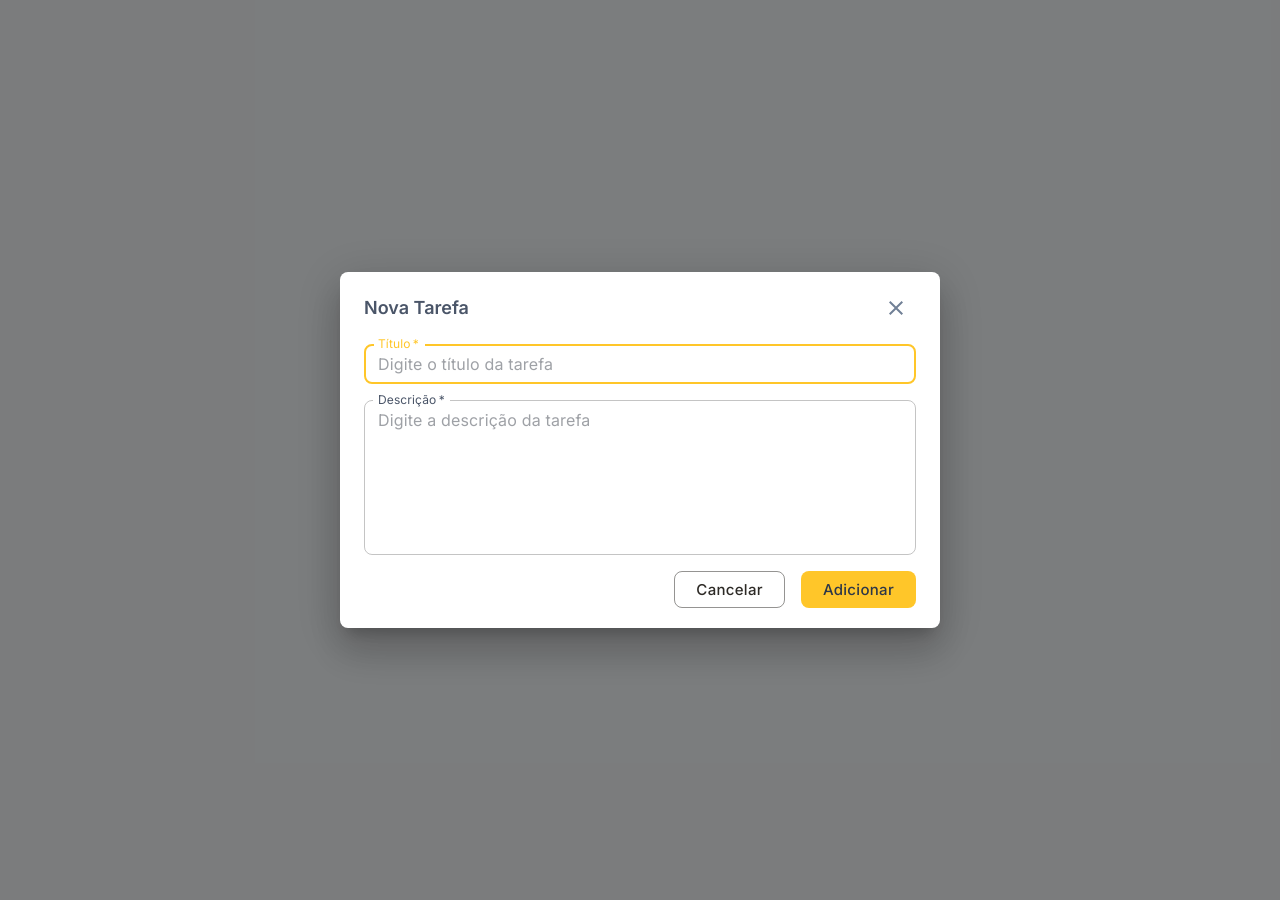
Scenario: TaskNew - Integration Tests › Edge Cases › should display error message when task creation fails
Type "Nova tarefa de teste" into the field labelled "Título *" at [640, 364], box 364,344 -> 916,384
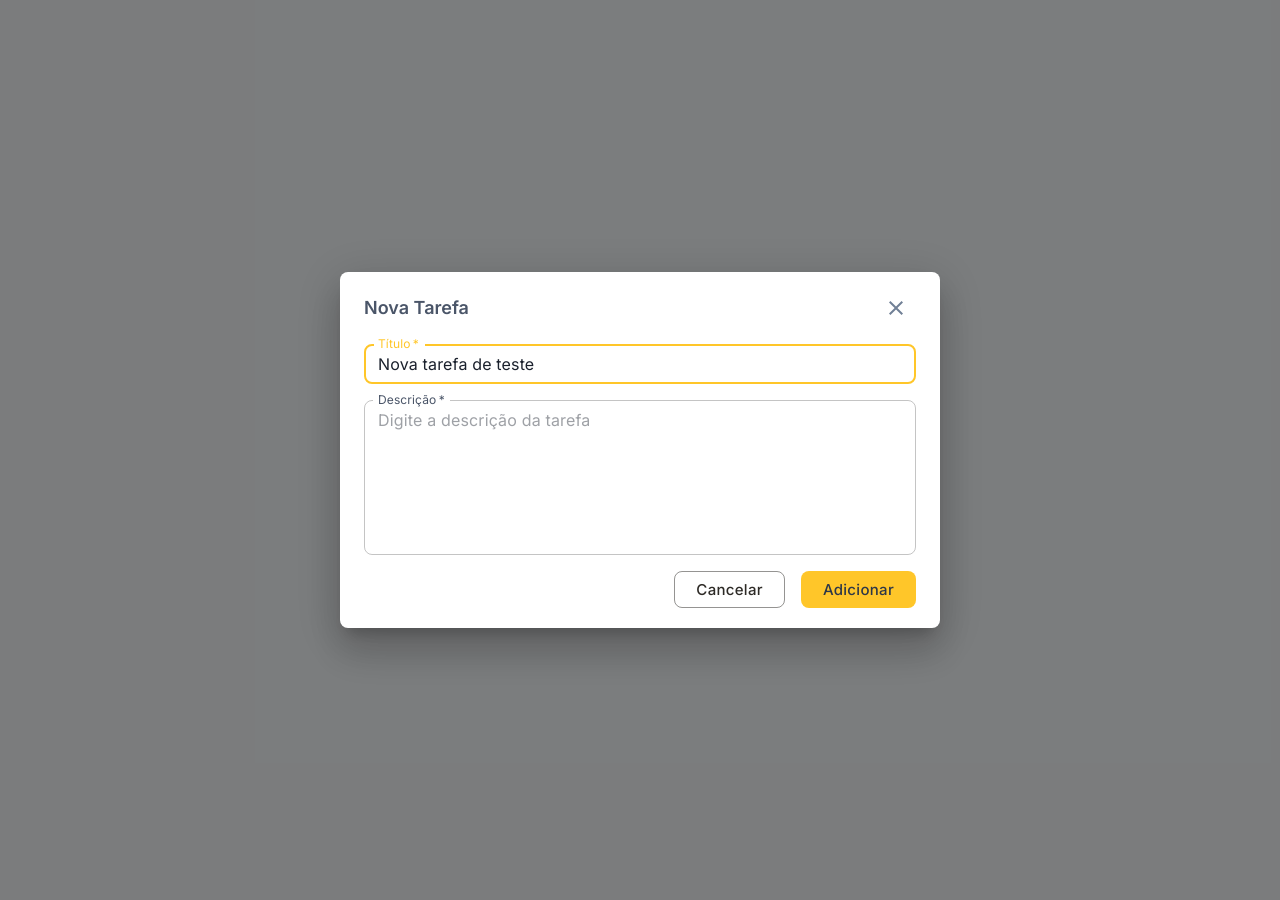
Type "Descrição detalhada da nova tarefa de teste" into the text box labelled "Descrição *" at [640, 478], box 378,408 -> 902,546
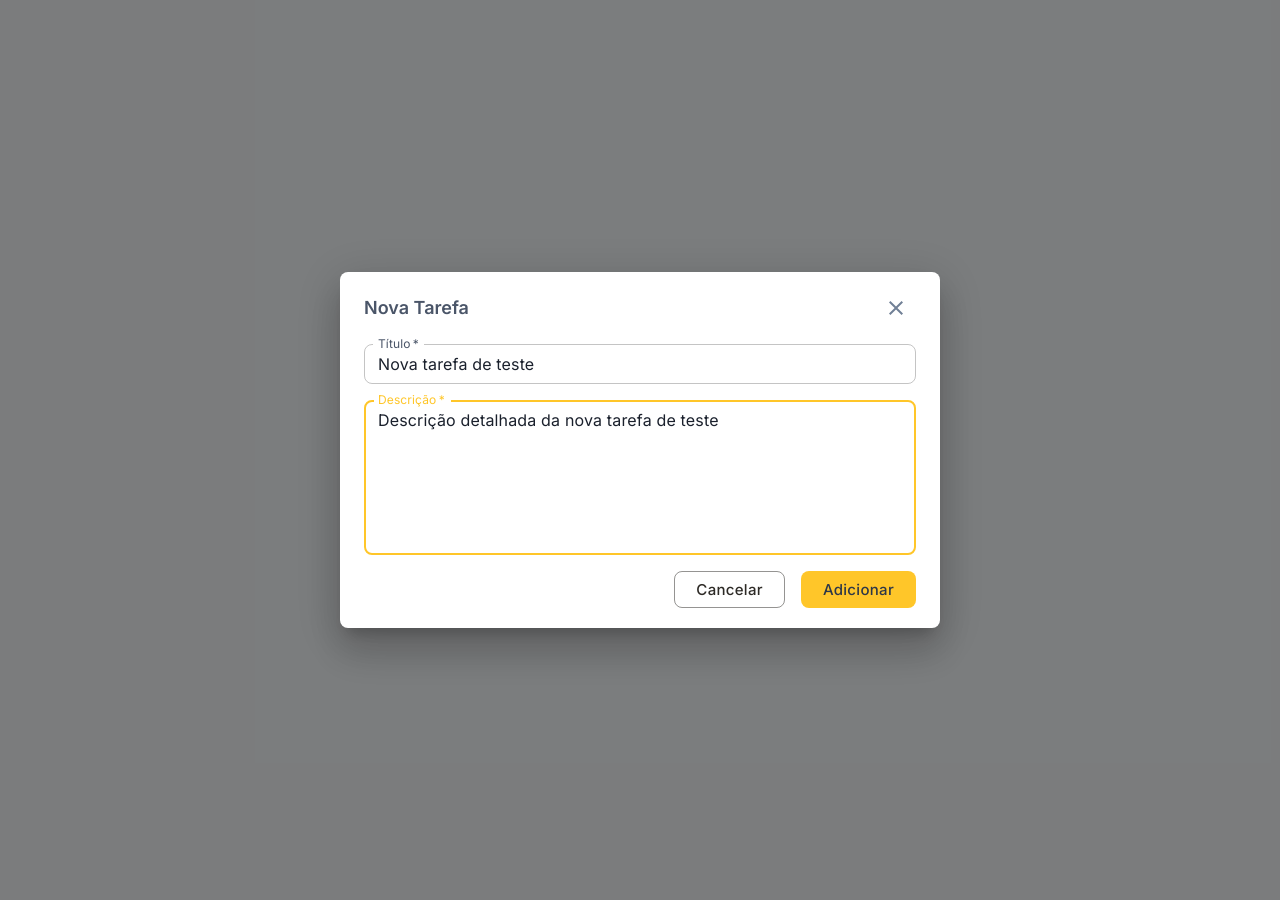
Click the button "Adicionar" at [858, 590], box 801,571 -> 916,608
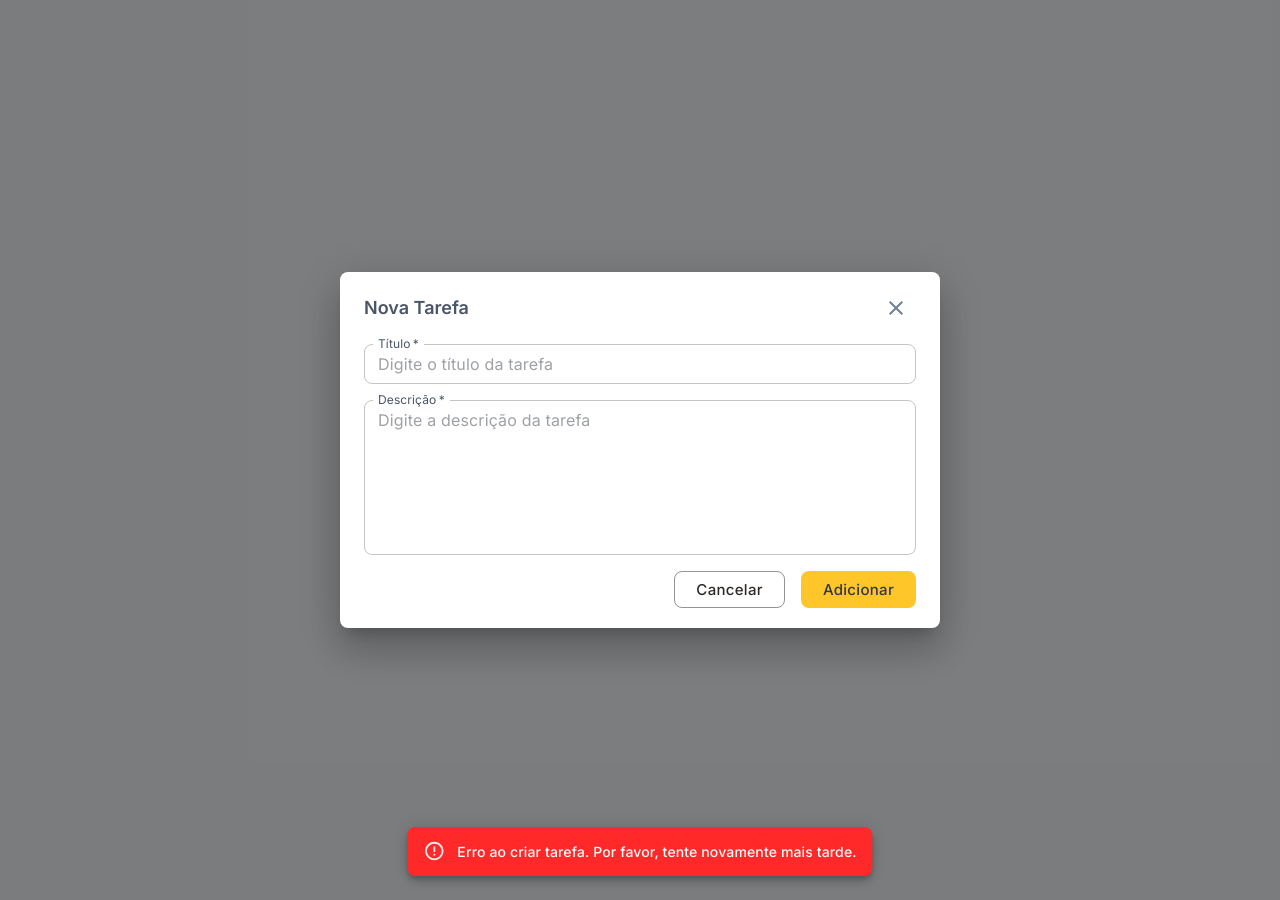
expect the text "Erro ao criar tarefa. Por favor, tente novamente mais tarde." is shown: met, box 457,843 -> 857,860
